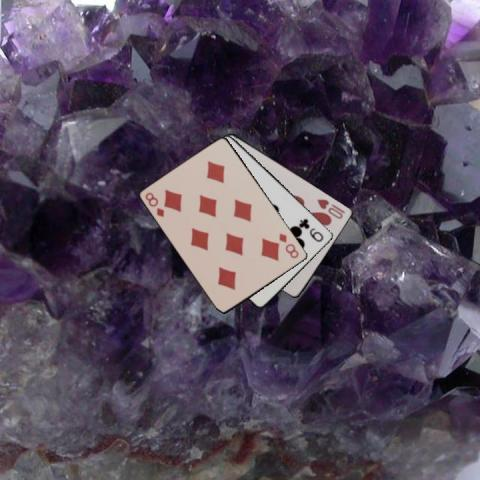10h: (314, 196, 347, 221)
8d: (276, 230, 301, 260), (142, 189, 166, 219)
9c: (297, 216, 325, 244)
